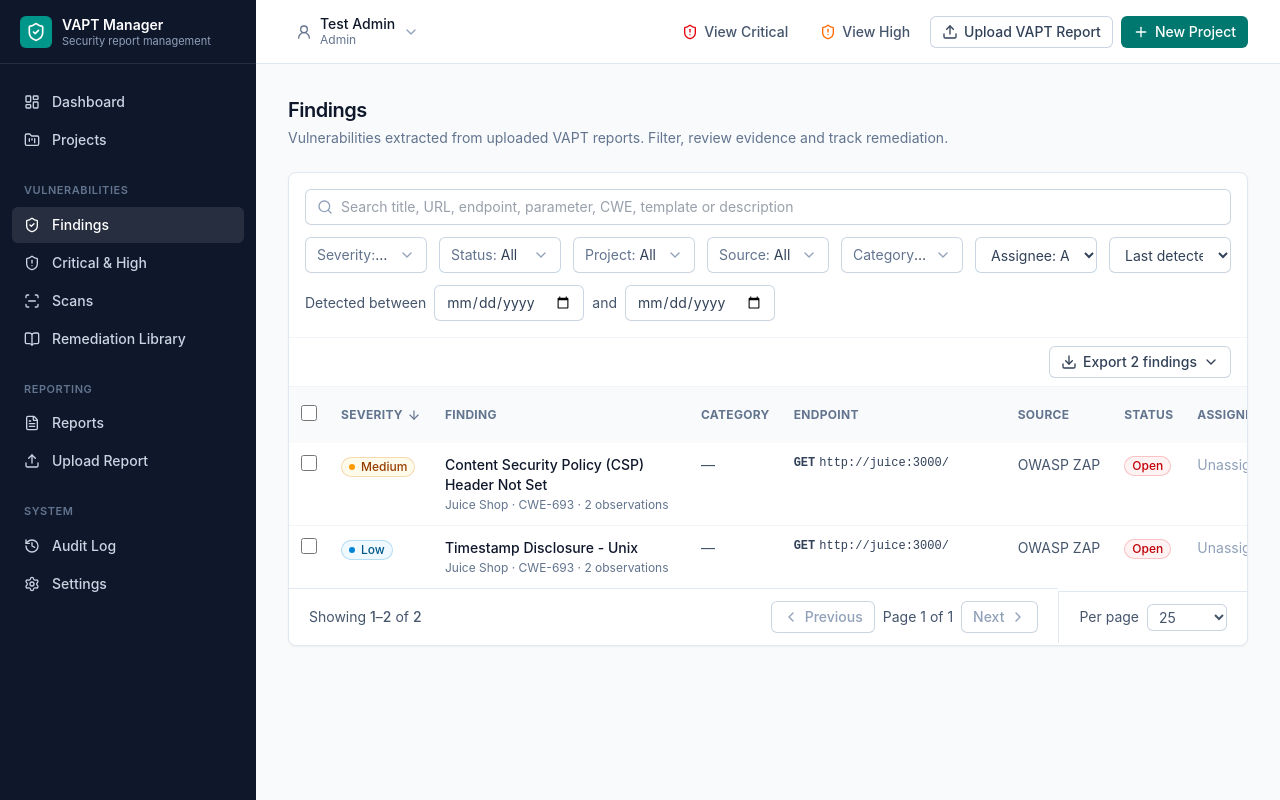
Scenario: Findings workspace › shows bulk failures and leaves the selection in place
This screenshot has width=1280, height=800.
Expected: the link "Timestamp Disclosure - Unix" is shown, 445,539 -> 638,556
Click the checkbox named "Select all findings on this page": x=309, y=413 301,405 -> 317,421
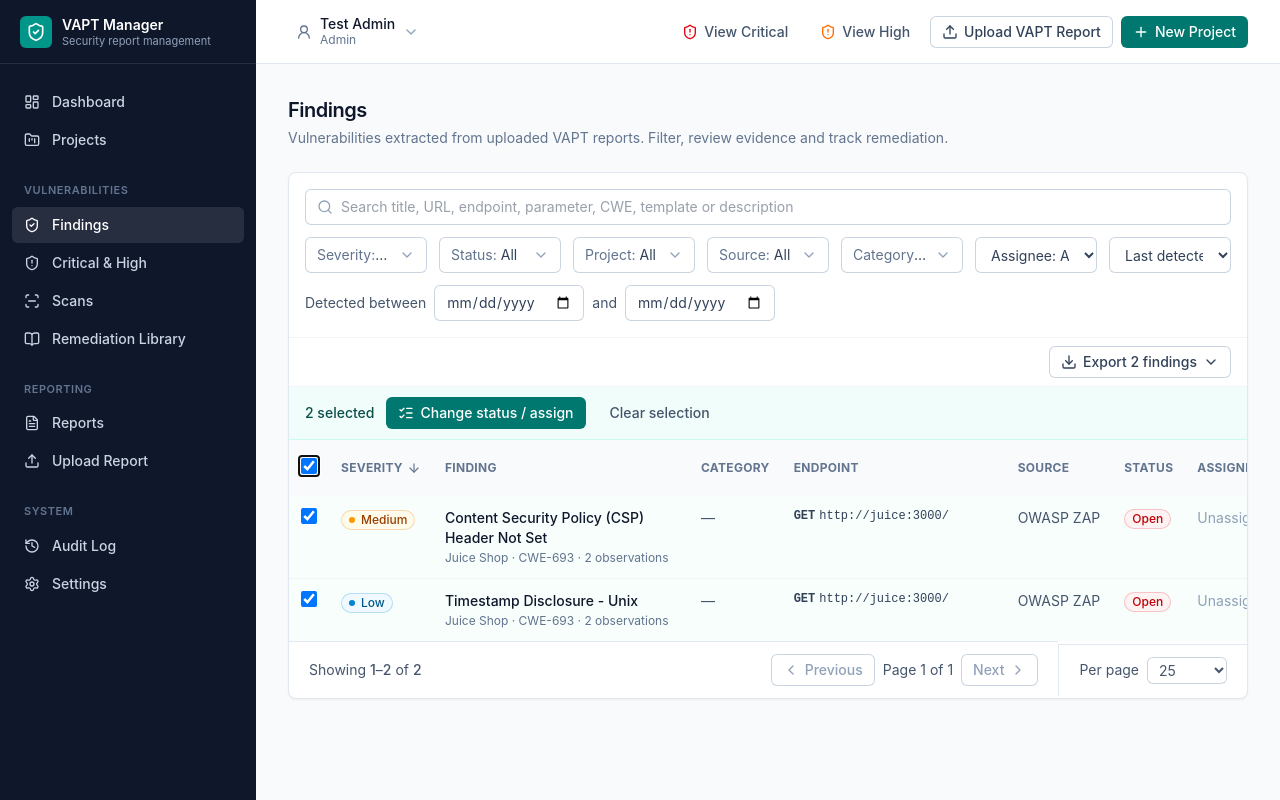
Click the button "Change status / assign": x=486, y=413 386,397 -> 586,429
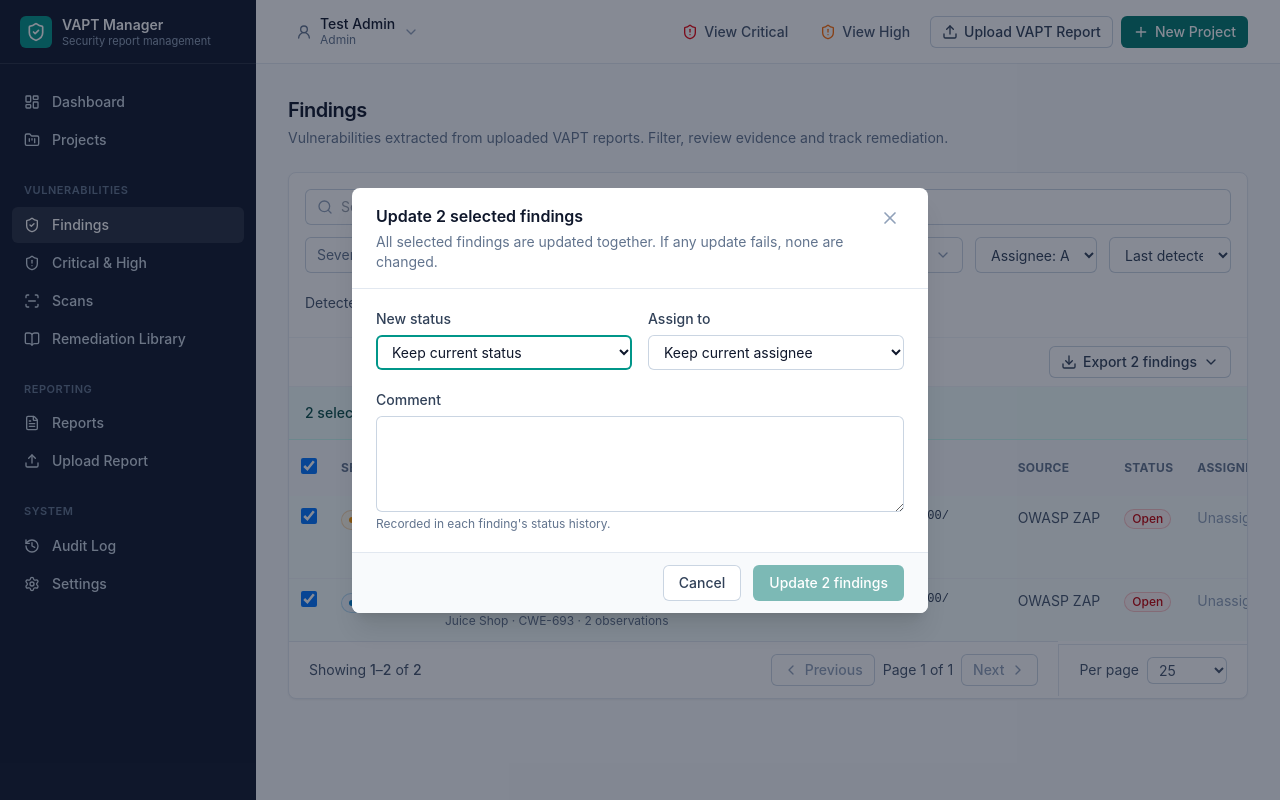
Select "Closed" in the dropdown labelled "New status": x=504, y=352 376,334 -> 632,370
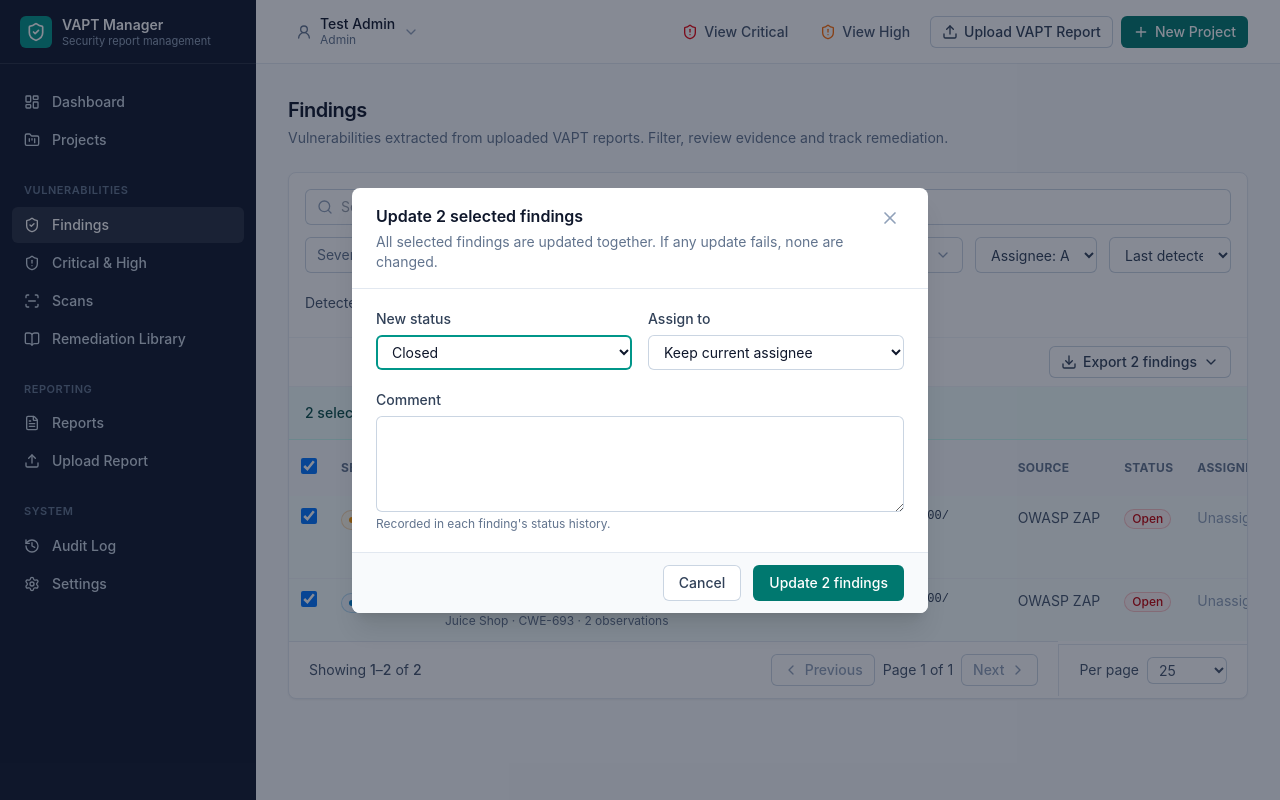
Click the button "Update 2 findings": x=829, y=582 753,564 -> 904,600
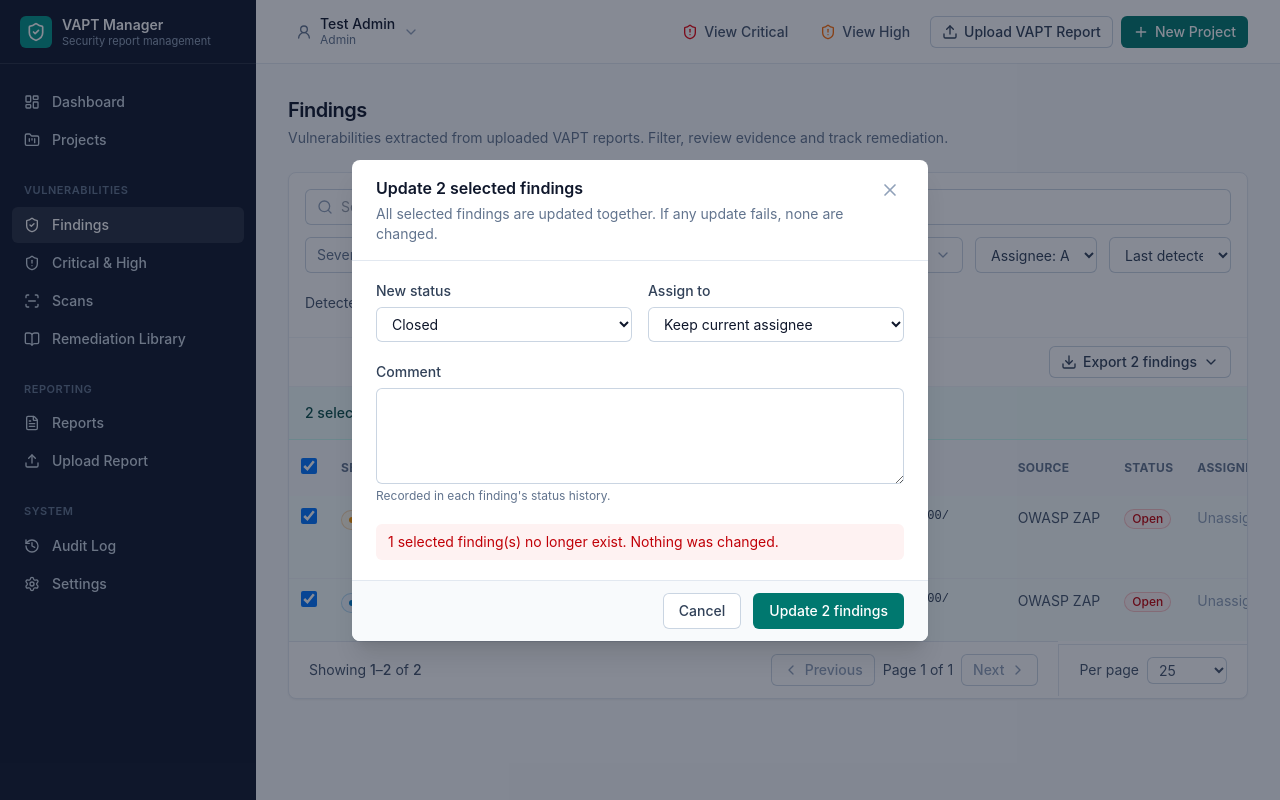
Expected: the element named "Bulk actions" shows "2 selected", 289,387 -> 1247,440
Expected: the message shows "Nothing was changed", 388,532 -> 779,550
